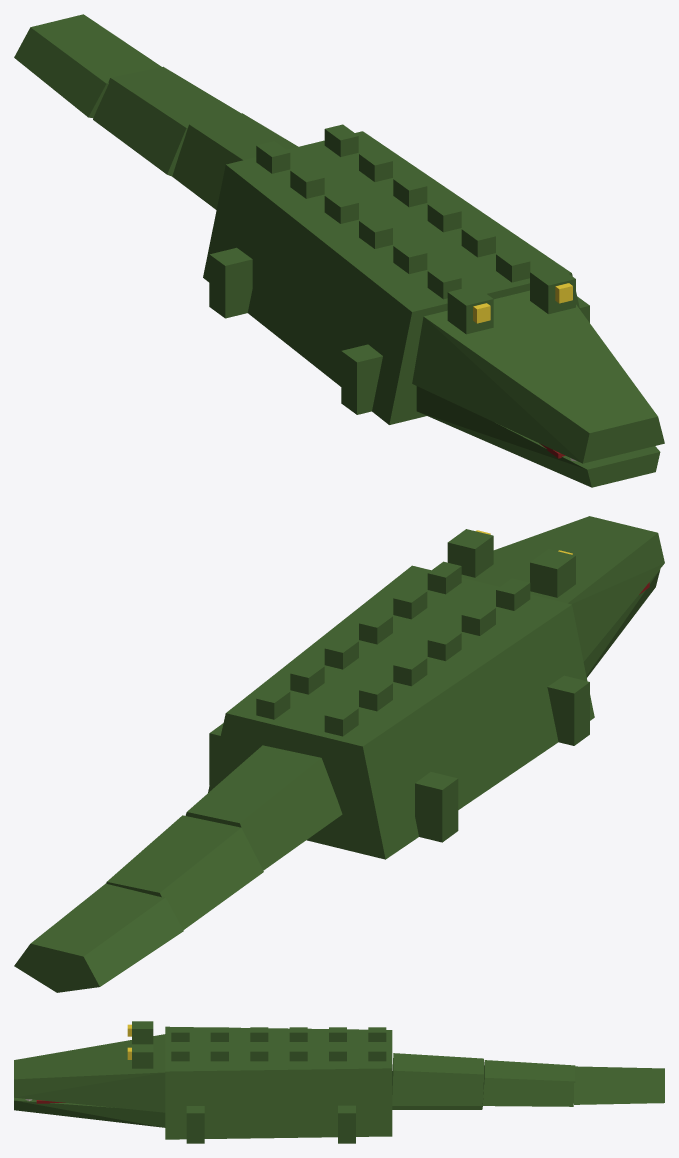
File: crocodile.glb
3 views of the same model, one above another, from view 1: azimuth 30°, elevation 25°; view 2: azimuth 150°, elevation 25°; view 3: azimuth 270°, elevation 25° (orthographic). The views are drawn at different scales.
Visible parts, largest first — view 1: croc, Tail_croc, Jaw_croc, Leg0_croc, Leg2_croc; view 2: croc, Tail_croc, Leg0_croc, Leg2_croc, Jaw_croc; view 3: croc, Tail_croc, Jaw_croc, Leg3_croc, Leg1_croc.
Boxes of the visible parts, x1,y1,x2,y2 form: croc: [203, 124, 664, 463]; Tail_croc: [14, 14, 298, 209]; Jaw_croc: [416, 386, 660, 487]; Leg0_croc: [209, 247, 252, 318]; Leg2_croc: [341, 344, 382, 414]; croc: [208, 516, 664, 859]; Tail_croc: [14, 745, 342, 992]; Leg0_croc: [415, 772, 458, 842]; Leg2_croc: [547, 675, 589, 745]; Jaw_croc: [583, 569, 660, 677]; croc: [14, 1021, 392, 1139]; Tail_croc: [392, 1053, 664, 1109]; Jaw_croc: [14, 1097, 165, 1127]; Leg3_croc: [186, 1106, 204, 1143]; Leg1_croc: [338, 1105, 355, 1143].
Size of the model in its own units: 1.02 by 0.545 by 4.3.
